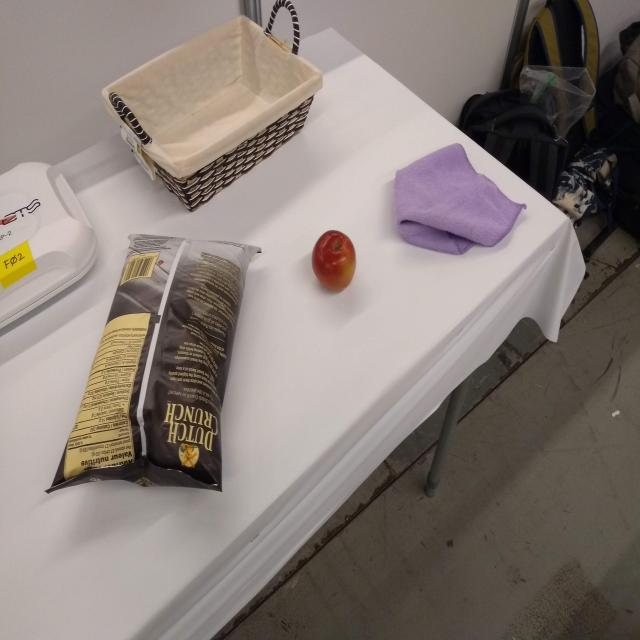apple: (310, 225, 360, 296)
cloth_opl: (390, 140, 529, 254)
potato_chips: (41, 228, 265, 510)
